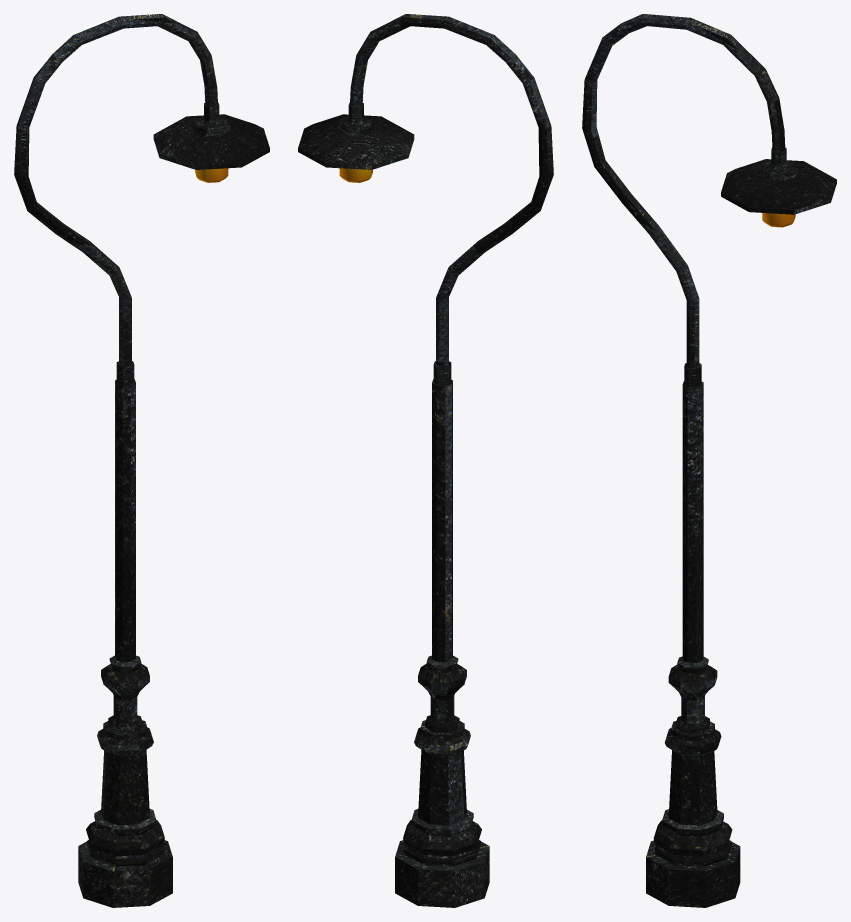
The model's file is textured lamp 2.fbx.
3 views of the same model, side by side, from view 1: azimuth 30°, elevation 25°; view 2: azimuth 150°, elevation 25°; view 3: azimuth 330°, elevation 25° (orthographic).
Parts seen in each view (by area): view 1: Plane.004; view 2: Plane.004; view 3: Plane.004.
Boxes of the visible parts, x1,y1,x2,y2 form: Plane.004: [14, 14, 269, 907]; Plane.004: [298, 14, 553, 907]; Plane.004: [582, 14, 836, 907].
Size of the model in its own units: 135 by 450 by 56.37.
2 materials, 2 textured.
